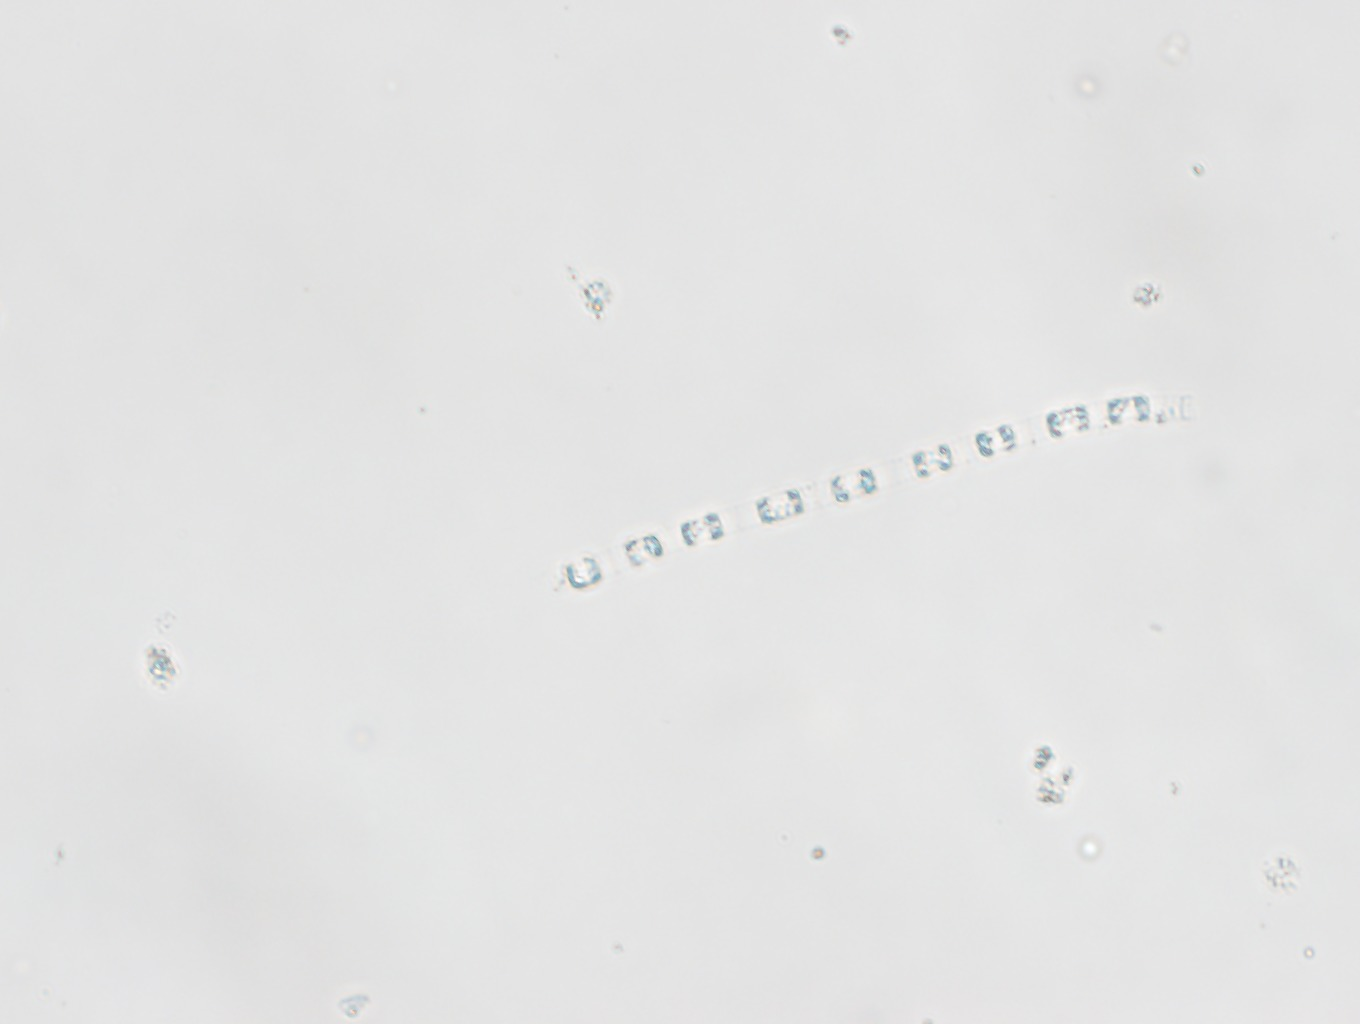skeletonema: (543, 389, 1194, 589)
